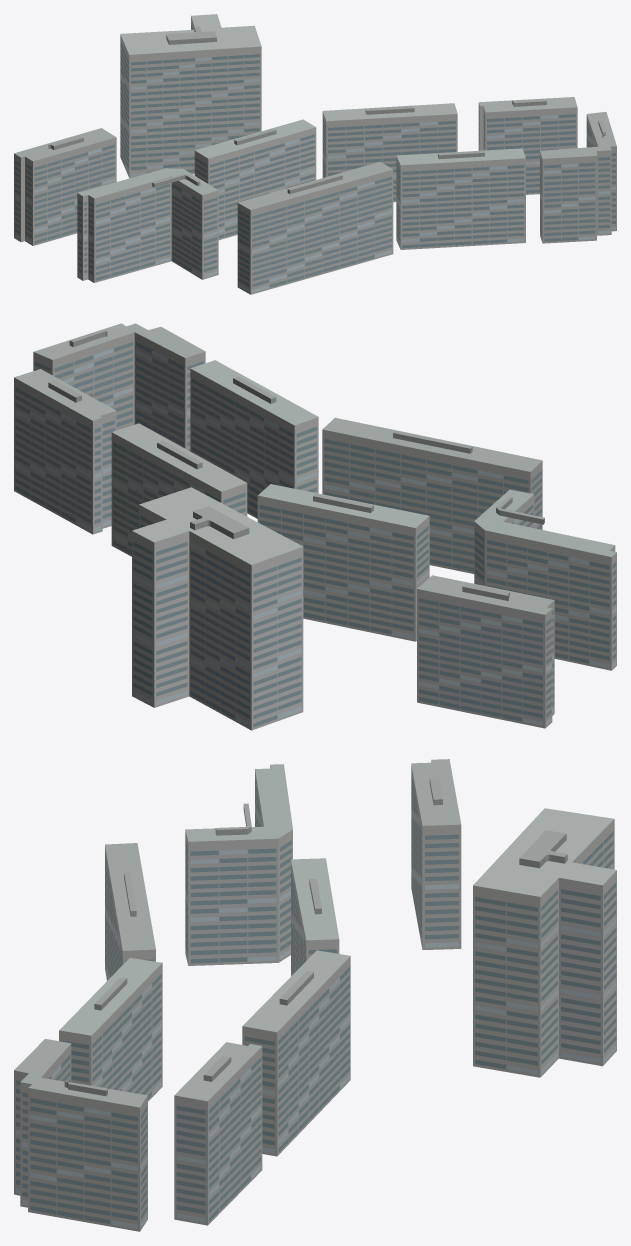
The model's file is apt-a13286304.glb.
3 renders of one model, top to bottom at view 1: azimuth 30°, elevation 25°; view 2: azimuth 150°, elevation 25°; view 3: azimuth 270°, elevation 25°, orthographic. The views are drawn at different scales.
Visible parts, largest first — view 1: apt-a13286304; view 2: apt-a13286304; view 3: apt-a13286304.
Boxes of the visible parts, x1,y1,x2,y2 form: apt-a13286304: (14, 14, 616, 294); apt-a13286304: (14, 323, 616, 730); apt-a13286304: (14, 759, 616, 1231).
Size of the model in its own units: 275 by 69 by 201.
